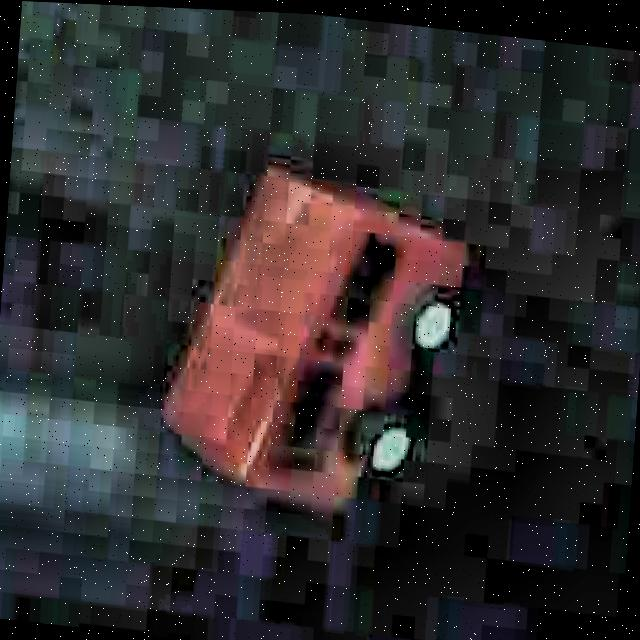bus: (150, 146, 487, 540)
